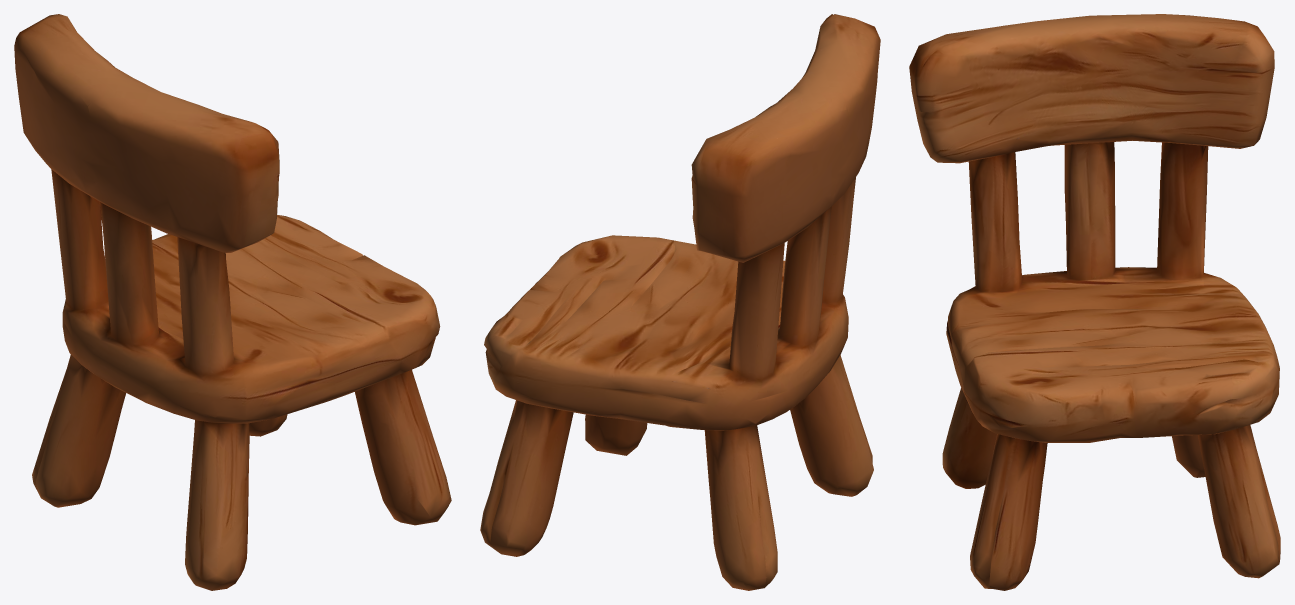
The model's file is chair.glb.
The picture shows the model from 3 angles, left to right: view 1: azimuth 30°, elevation 25°; view 2: azimuth 150°, elevation 25°; view 3: azimuth 270°, elevation 25°; orthographic projection. The views are drawn at different scales.
Visible parts, largest first — view 1: tripo_node_558a454d-b9d8-4d57-ad66-692d93a20c22; view 2: tripo_node_558a454d-b9d8-4d57-ad66-692d93a20c22; view 3: tripo_node_558a454d-b9d8-4d57-ad66-692d93a20c22.
Part boxes in pixels (x1,y1,x2,y2): tripo_node_558a454d-b9d8-4d57-ad66-692d93a20c22: (14,14,451,590); tripo_node_558a454d-b9d8-4d57-ad66-692d93a20c22: (480,14,880,590); tripo_node_558a454d-b9d8-4d57-ad66-692d93a20c22: (909,14,1280,590).
Bounding box in the file's own units: 0.7117 × 1 × 0.7516.
Materials: 1 (1 with a texture image).
